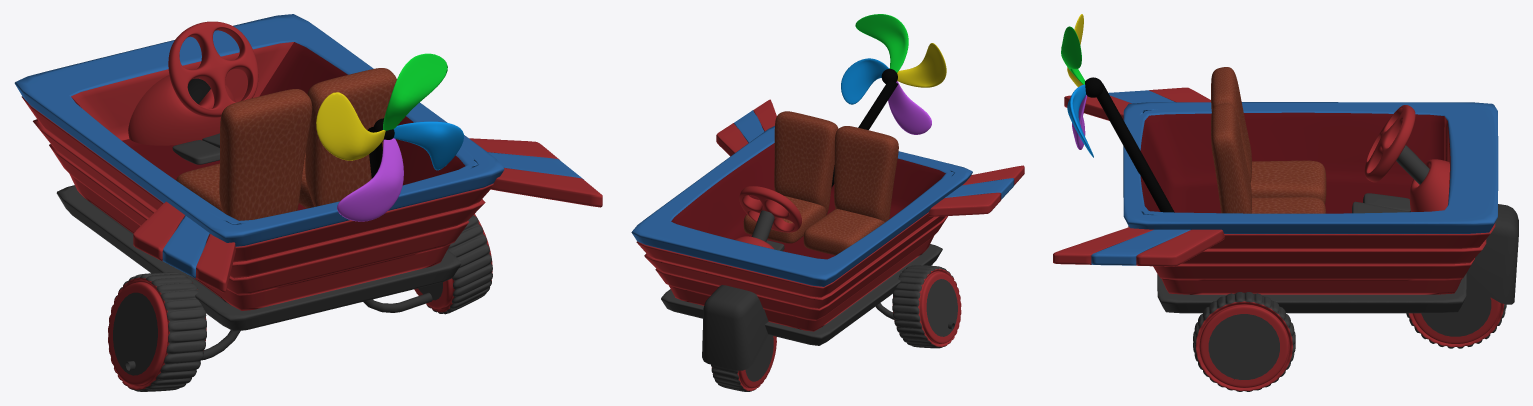
File: Carro _Realista_.fbx
The picture shows the model from 3 angles, left to right: view 1: azimuth 30°, elevation 25°; view 2: azimuth 150°, elevation 25°; view 3: azimuth 270°, elevation 25°; orthographic projection. The views are drawn at different scales.
Visible parts, largest first — view 1: Cube.003, Cube.065, Cylinder.003, Cube.063, Plane.009, Cylinder.006, Plane.008, Plane.005, Plane.007, Plane.006, Cylinder.008, Cube.067; view 2: Cube.003, Cube.065, Cylinder.003, Cube.059, Cube.063, Plane.009, Cylinder.002, Plane.007, Plane.006, Plane.008, Plane.005, Cylinder.006 (+1 smaller); view 3: Cube.003, Cube.065, Cylinder.003, Cube.063, Cylinder.002, Cube.059, Cylinder.006, Plane.009, Cylinder.007, Plane.007, Plane.006, Cube.067 (+1 smaller).
Part boxes in pixels (x1=…): Cube.003: x1=14, y1=14, x2=504, y2=331; Cube.065: x1=176, y1=68, x2=396, y2=220; Cylinder.003: x1=108, y1=214, x2=492, y2=391; Cube.063: x1=133, y1=138, x2=602, y2=292; Plane.009: x1=168, y1=21, x2=258, y2=117; Cylinder.006: x1=128, y1=69, x2=235, y2=145; Plane.008: x1=316, y1=92, x2=385, y2=160; Plane.005: x1=337, y1=138, x2=403, y2=221; Plane.007: x1=383, y1=53, x2=447, y2=130; Plane.006: x1=393, y1=121, x2=463, y2=170; Cylinder.008: x1=125, y1=292, x2=432, y2=370; Cube.067: x1=172, y1=140, x2=219, y2=164; Cube.003: x1=631, y1=126, x2=972, y2=345; Cube.065: x1=743, y1=111, x2=898, y2=255; Cylinder.003: x1=892, y1=265, x2=961, y2=348; Cube.059: x1=702, y1=285, x2=768, y2=370; Cube.063: x1=716, y1=99, x2=1024, y2=216; Plane.009: x1=739, y1=186, x2=801, y2=232; Cylinder.002: x1=711, y1=335, x2=776, y2=391; Plane.007: x1=855, y1=14, x2=908, y2=72; Plane.006: x1=841, y1=58, x2=889, y2=104; Plane.008: x1=897, y1=43, x2=946, y2=87; Plane.005: x1=888, y1=81, x2=931, y2=134; Cylinder.006: x1=735, y1=210, x2=774, y2=249; Cube.003: x1=1123, y1=102, x2=1498, y2=313; Cube.065: x1=1211, y1=67, x2=1326, y2=213; Cylinder.003: x1=1193, y1=292, x2=1295, y2=391; Cube.063: x1=1053, y1=87, x2=1225, y2=266; Cylinder.002: x1=1406, y1=284, x2=1506, y2=348; Cube.059: x1=1466, y1=204, x2=1518, y2=304; Cylinder.006: x1=1396, y1=145, x2=1449, y2=211; Plane.009: x1=1364, y1=105, x2=1415, y2=182; Cylinder.007: x1=1096, y1=83, x2=1174, y2=212; Plane.007: x1=1061, y1=26, x2=1084, y2=84; Plane.006: x1=1067, y1=84, x2=1093, y2=157; Cube.067: x1=1363, y1=193, x2=1410, y2=211.
Size of the model in its own units: 395 by 349 by 460.
